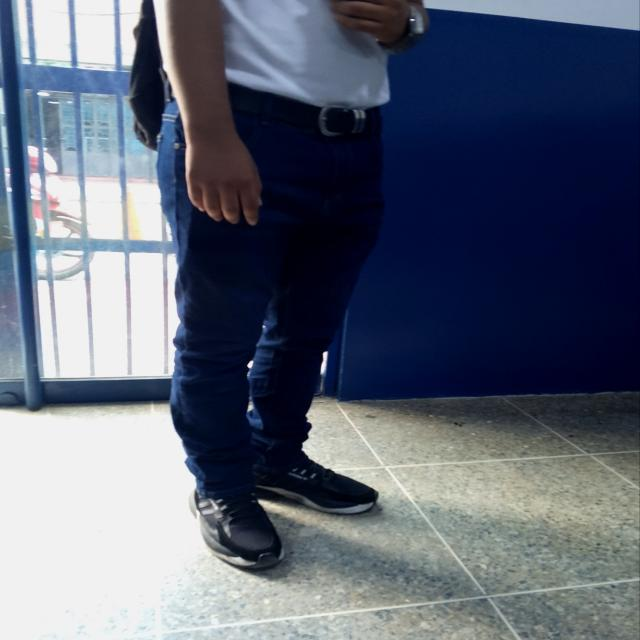pantalon_oscuro: (156, 98, 386, 501)
